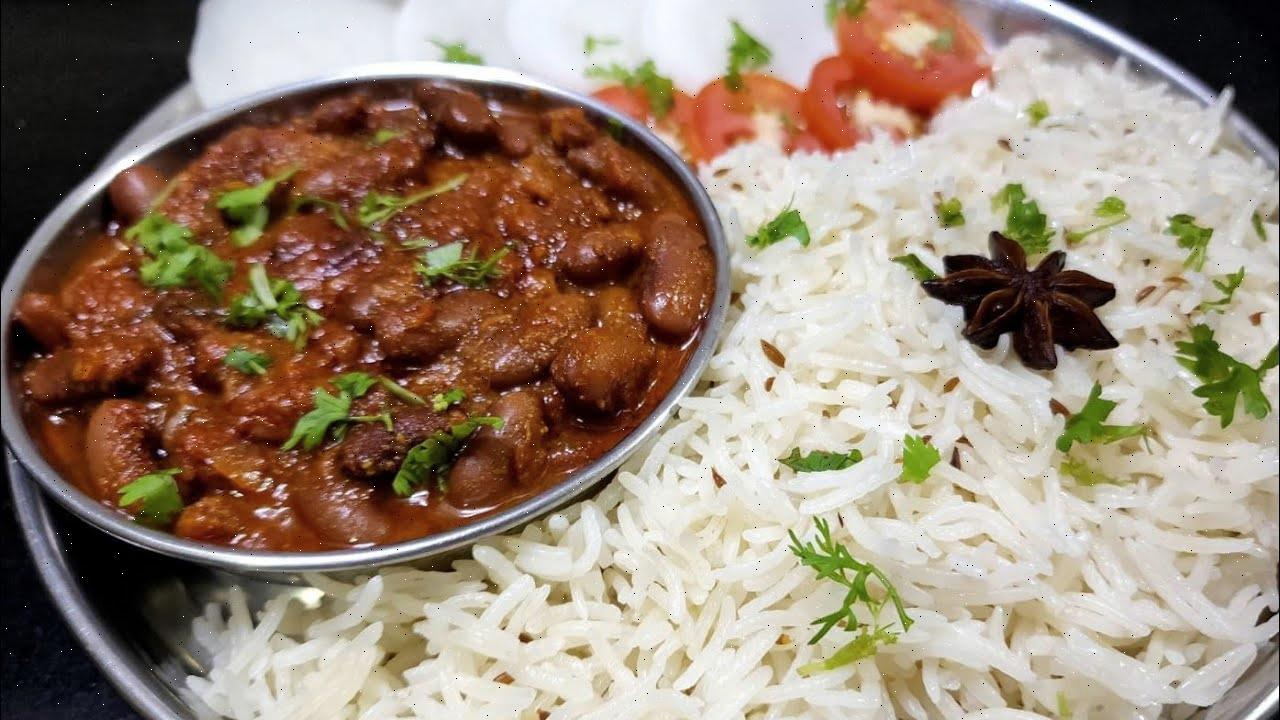rajma: (44, 96, 722, 444)
rice: (712, 216, 1280, 720)
